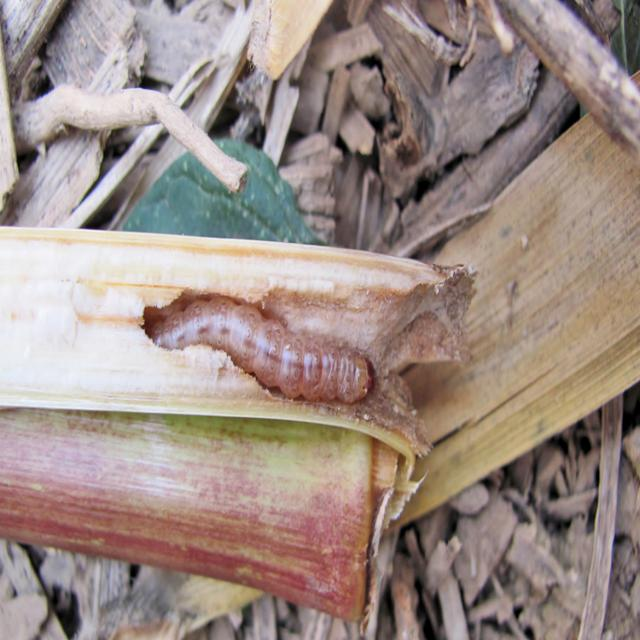cornborer-Larva-: (110, 272, 394, 423)
